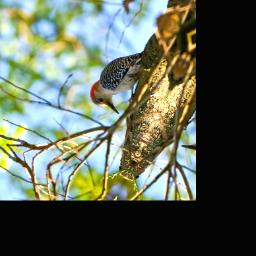Woodpecker: (75, 28, 161, 124)
